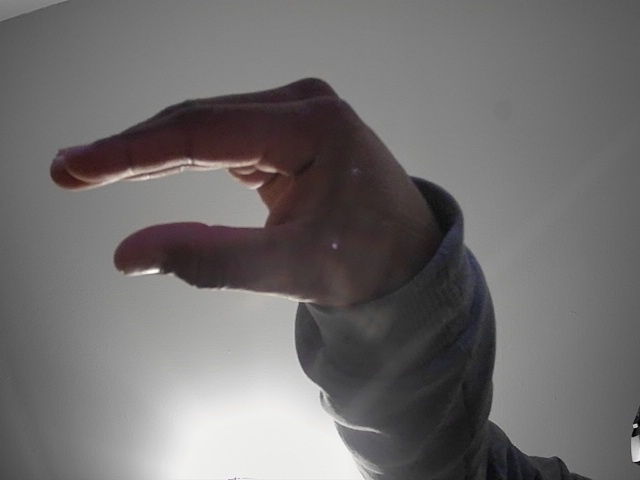No: (26, 63, 452, 328)
